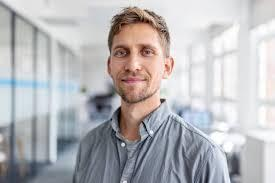person: (106, 7, 175, 106)
